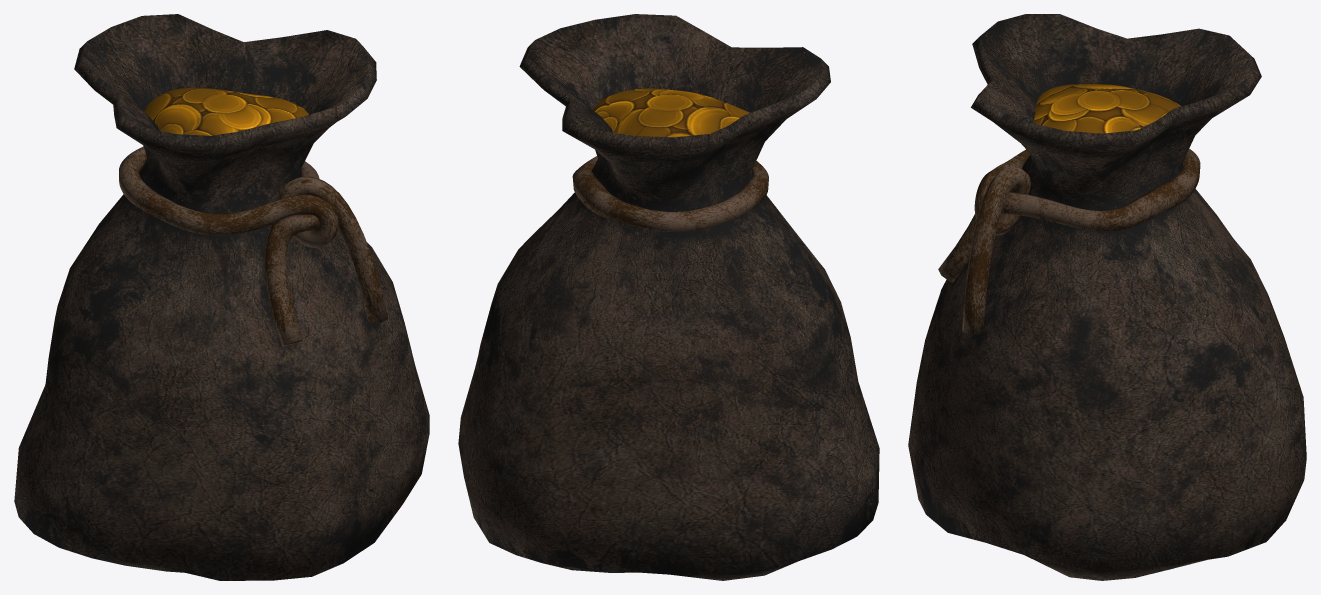
3 views of the same model, side by side, from view 1: azimuth 30°, elevation 25°; view 2: azimuth 150°, elevation 25°; view 3: azimuth 270°, elevation 25° (orthographic).
Visible parts, largest first — view 1: bag_lp, rope_lp, Inside_lp; view 2: bag_lp, Inside_lp, rope_lp; view 3: bag_lp, rope_lp, Inside_lp.
Boxes of the visible parts, <box> form: bag_lp: <box>14,14,429,580</box>; rope_lp: <box>119,146,388,346</box>; Inside_lp: <box>145,87,308,135</box>; bag_lp: <box>458,14,879,580</box>; Inside_lp: <box>592,88,749,137</box>; rope_lp: <box>572,156,768,231</box>; bag_lp: <box>908,14,1306,580</box>; rope_lp: <box>938,148,1200,334</box>; Inside_lp: <box>1034,84,1181,133</box>.
Size of the model in its own units: 1.36 by 1.53 by 1.25.
Materials: 1 (1 with a texture image).
